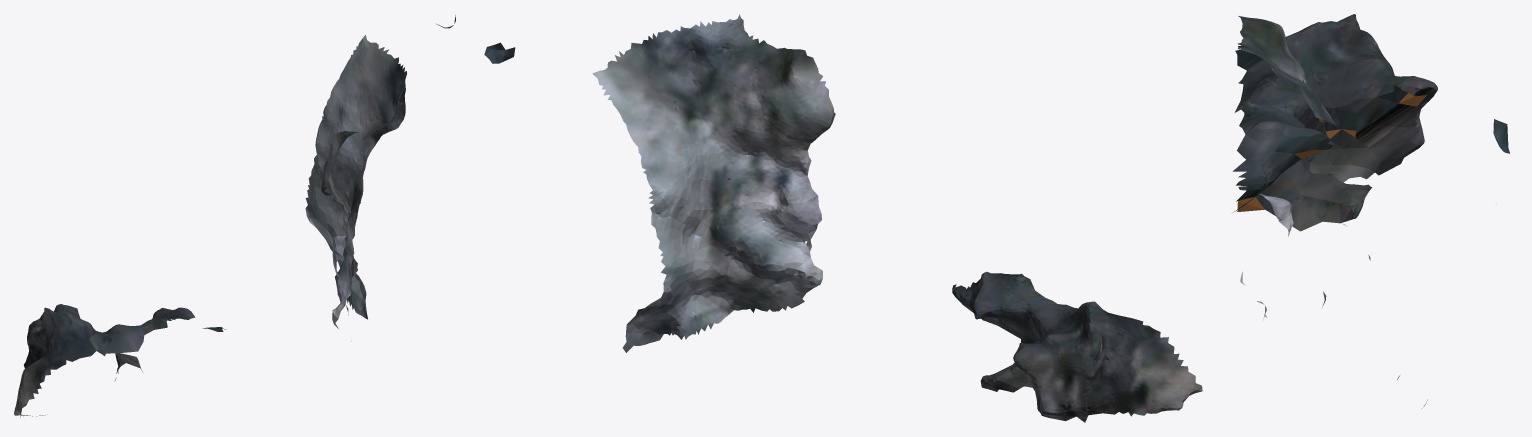
The model's file is tile_0616.gltf.
The picture shows the model from 3 angles, left to right: view 1: azimuth 30°, elevation 25°; view 2: azimuth 150°, elevation 25°; view 3: azimuth 270°, elevation 25°; orthographic projection. The views are drawn at different scales.
Parts seen in each view (by area): view 1: defaultobject; view 2: defaultobject; view 3: defaultobject.
Part boxes in pixels (left/top/right/bottom): defaultobject: left=14, top=15, right=455, bottom=417; defaultobject: left=484, top=14, right=1202, bottom=422; defaultobject: left=1232, top=14, right=1509, bottom=406.
Size of the model in its own units: 0.842 by 0.3771 by 0.2423.
Materials: 1 (1 with a texture image).
